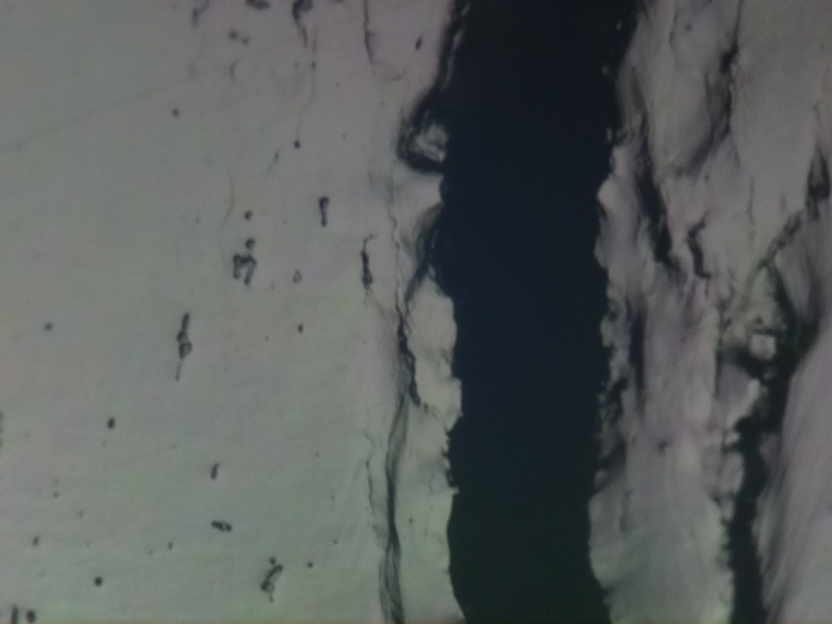crack: (398, 0, 642, 623), (722, 244, 832, 624)
